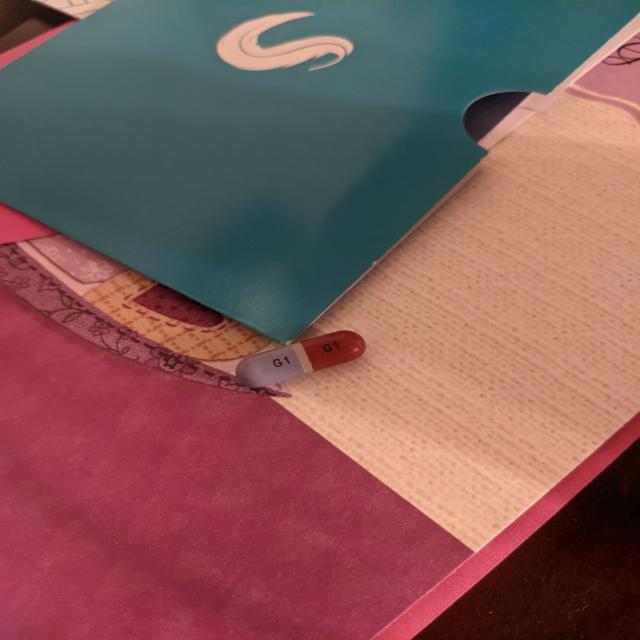non-organic waste: (234, 328, 368, 390)
